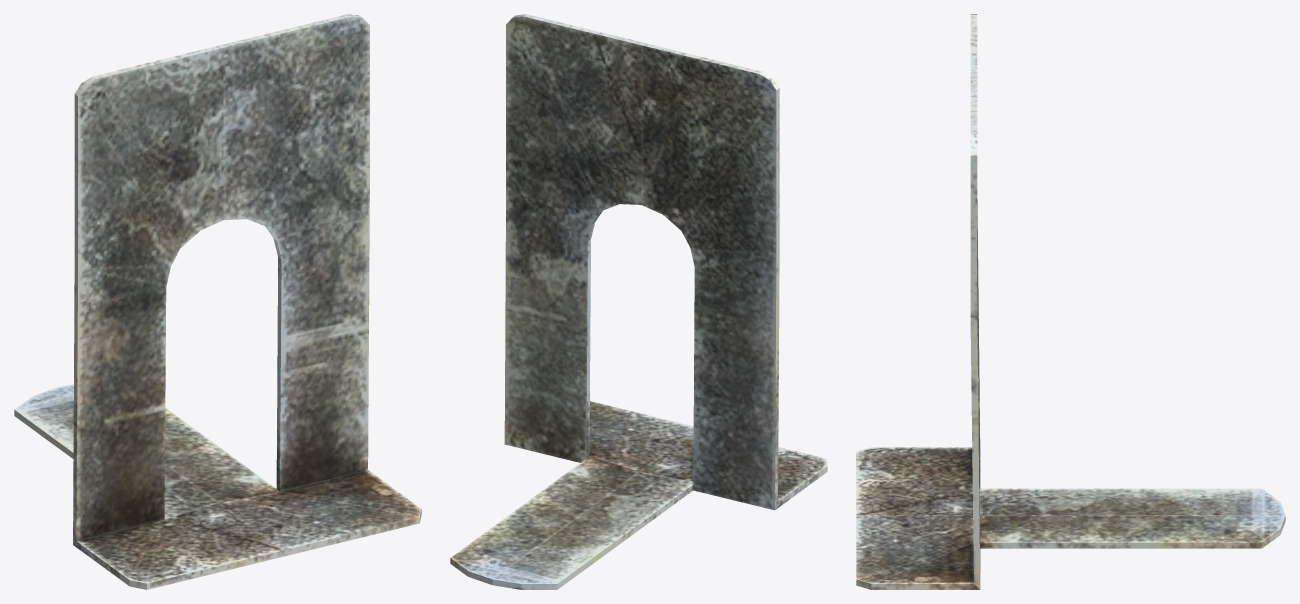
Rendered from bookpartition01.FBX.
3 views of the same model, side by side, from view 1: azimuth 30°, elevation 25°; view 2: azimuth 150°, elevation 25°; view 3: azimuth 270°, elevation 25° (orthographic). The views are drawn at different scales.
Visible parts, largest first — view 1: SM_BookPartition01; view 2: SM_BookPartition01; view 3: SM_BookPartition01.
Boxes of the visible parts, box(x1,y1,x2,y2) form: SM_BookPartition01: box(14, 14, 421, 589); SM_BookPartition01: box(450, 14, 827, 589); SM_BookPartition01: box(856, 14, 1285, 589).
Bounding box in the file's own units: 16.36 × 24.94 × 21.72.
Materials: 1 (1 with a texture image).
